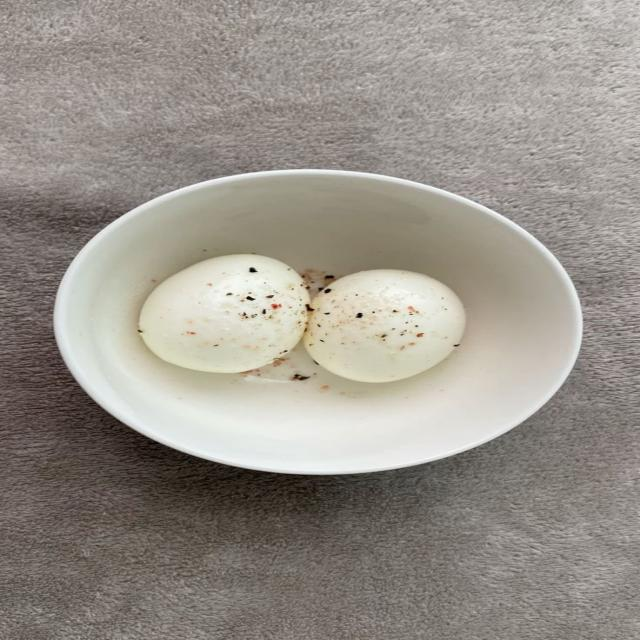egg boiled: (139, 255, 309, 372), (304, 270, 465, 382)
